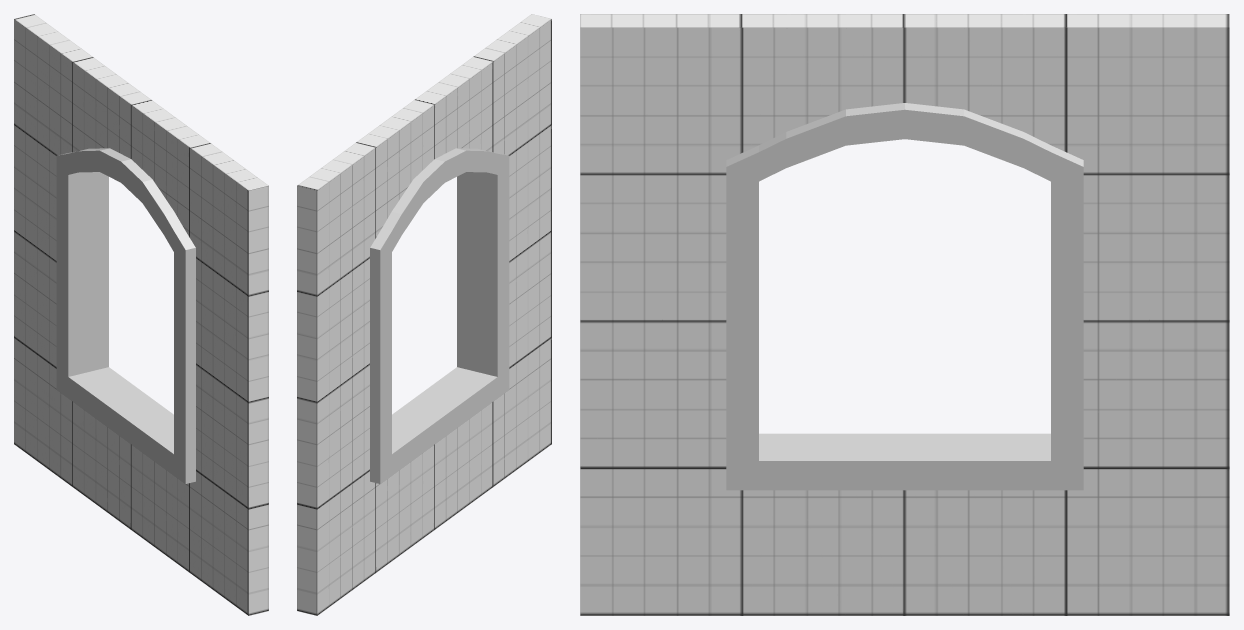
File: Tile_Wall_Window_4_x4.fbx
3 renders of one model, left to right at view 1: azimuth 30°, elevation 25°; view 2: azimuth 150°, elevation 25°; view 3: azimuth 270°, elevation 25°, orthographic. The views are drawn at different scales.
Visible parts, largest first — view 1: Tile_Wall_Window_4_x4; view 2: Tile_Wall_Window_4_x4; view 3: Tile_Wall_Window_4_x4.
Part boxes in pixels (x1=…): Tile_Wall_Window_4_x4: x1=14, y1=14, x2=268, y2=615; Tile_Wall_Window_4_x4: x1=297, y1=14, x2=551, y2=615; Tile_Wall_Window_4_x4: x1=580, y1=14, x2=1229, y2=615.
Bounding box in the file's own units: 40 × 400 × 400.
